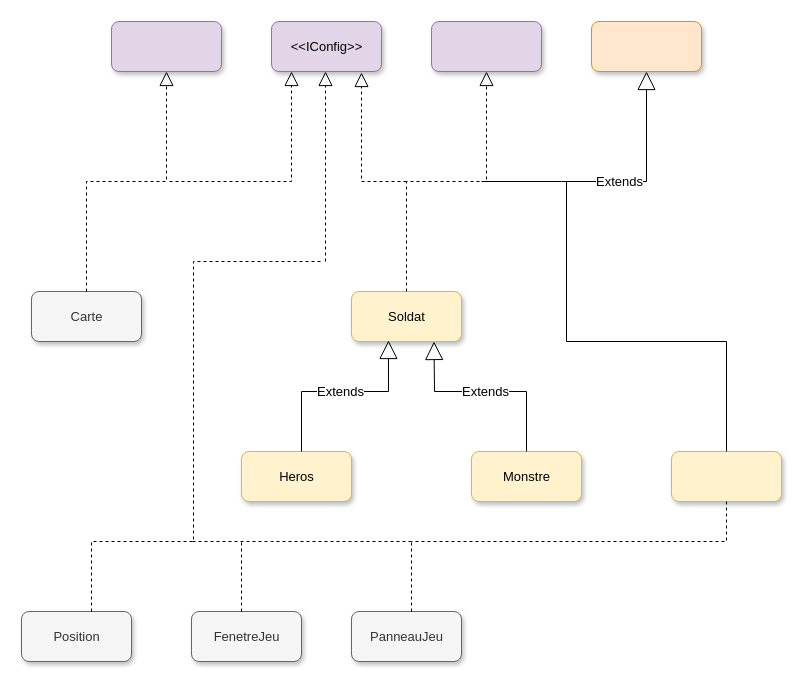
Some shapes in this 805 by 686 pixel diagram are drawn without their labels. Each missing label, with the centre of its shape:
<<ICarte>>: point (167, 47)
<<ISoldat>>: point (487, 47)
Element: point (647, 47)
Obstacle: point (727, 477)
